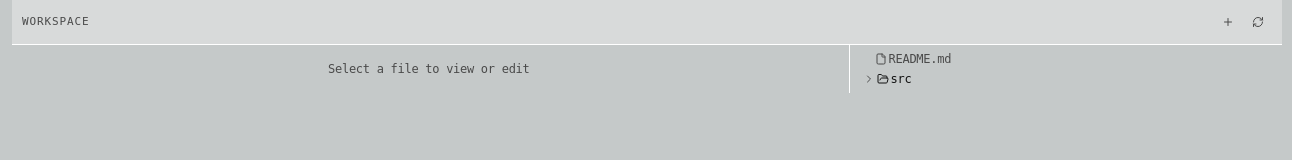
it: WorkspacePanel › edits and saves a file, then refreshes the list
The image size is (1292, 160).
Click the button "README.md": (920, 59) [857,49,1278,69]
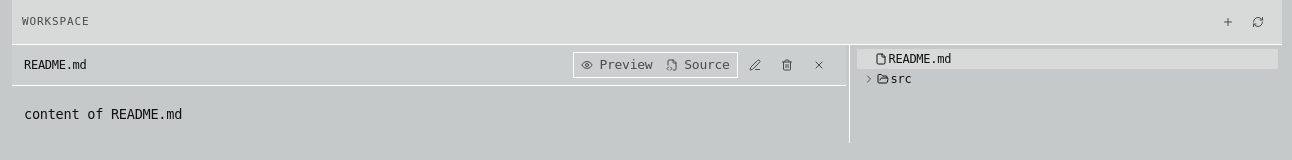
Expected: the text "content of README.md" is shown, [24,106,182,122]
Click the button named "Edit file": (755, 65) [740,51,770,79]
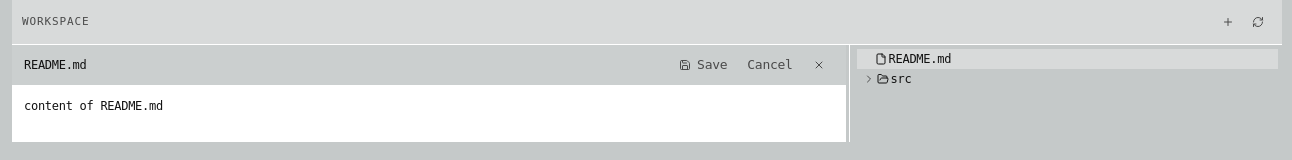
Expected: the text box holds "content of README.md"
Replace the text in the text box with "rewritten": (429, 114) [12,86,846,142]
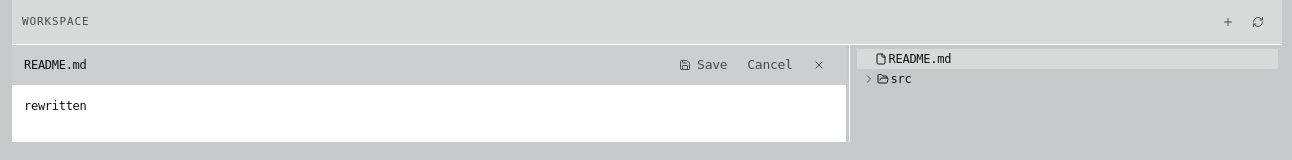
Click the button "Save": (703, 65) [670,51,736,79]
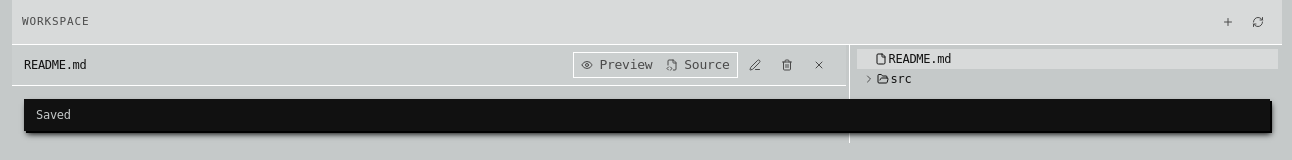
Expected: the text "Saved" is shown, [24,99,1270,131]
